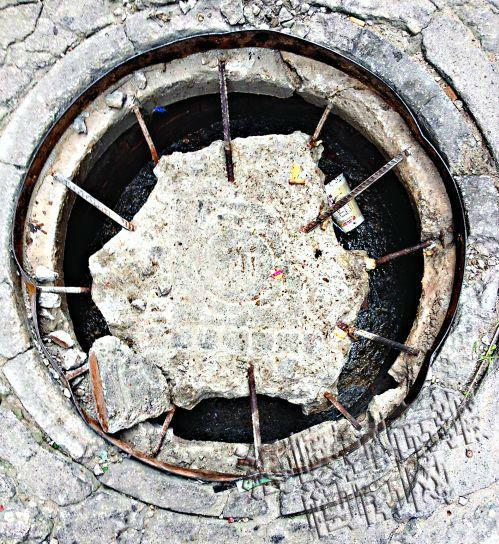wellcover: (25, 27, 465, 484)
